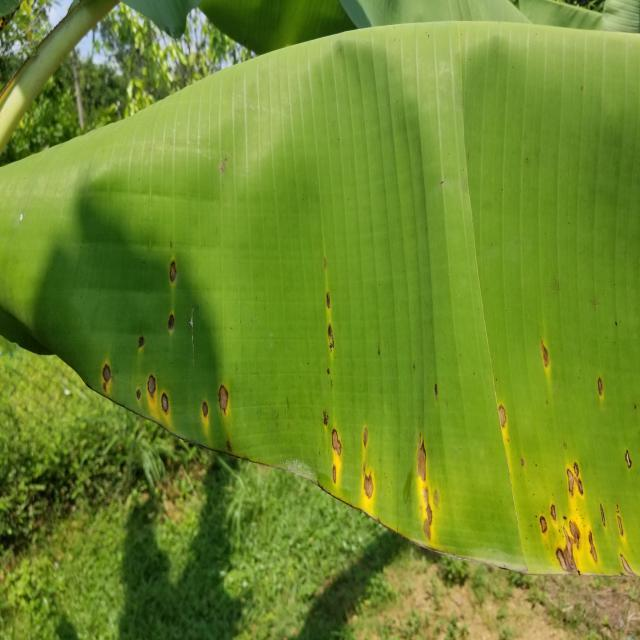Early_rust: (33, 212, 640, 602)
